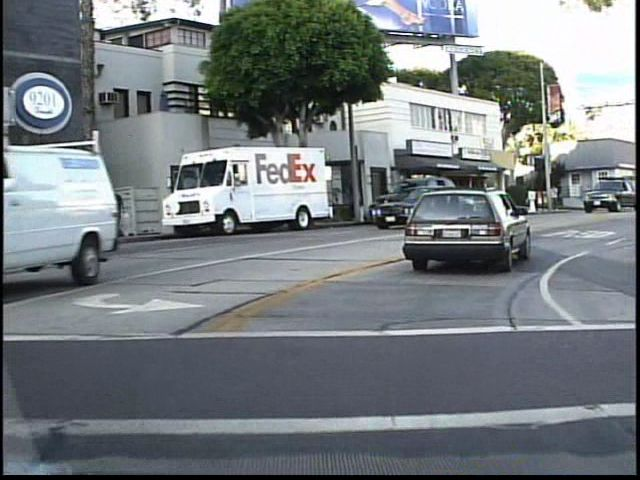car: (153, 122, 337, 230), (390, 164, 529, 279), (567, 164, 619, 218)
